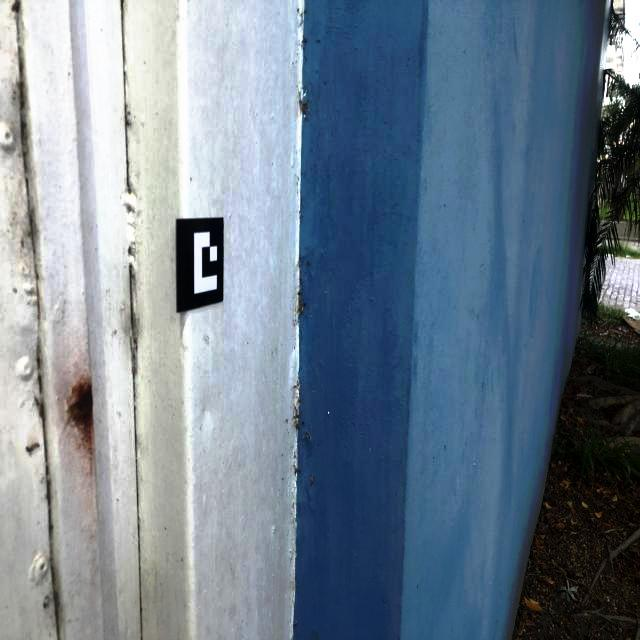Corrosion: (66, 376, 94, 455)
